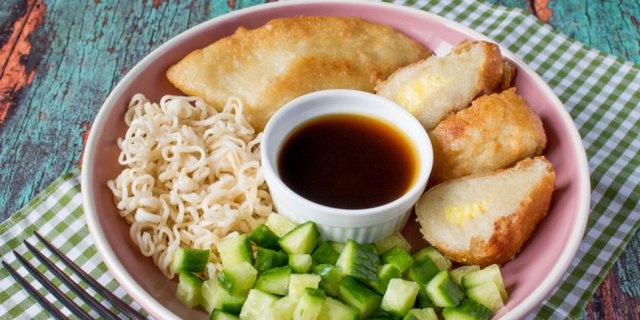pempek: (431, 29, 555, 261), (180, 14, 414, 92)
